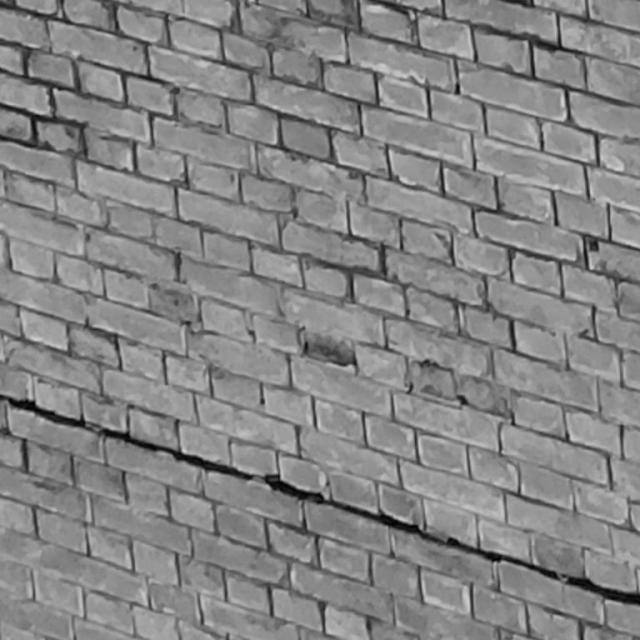crack: (1, 394, 640, 605)
